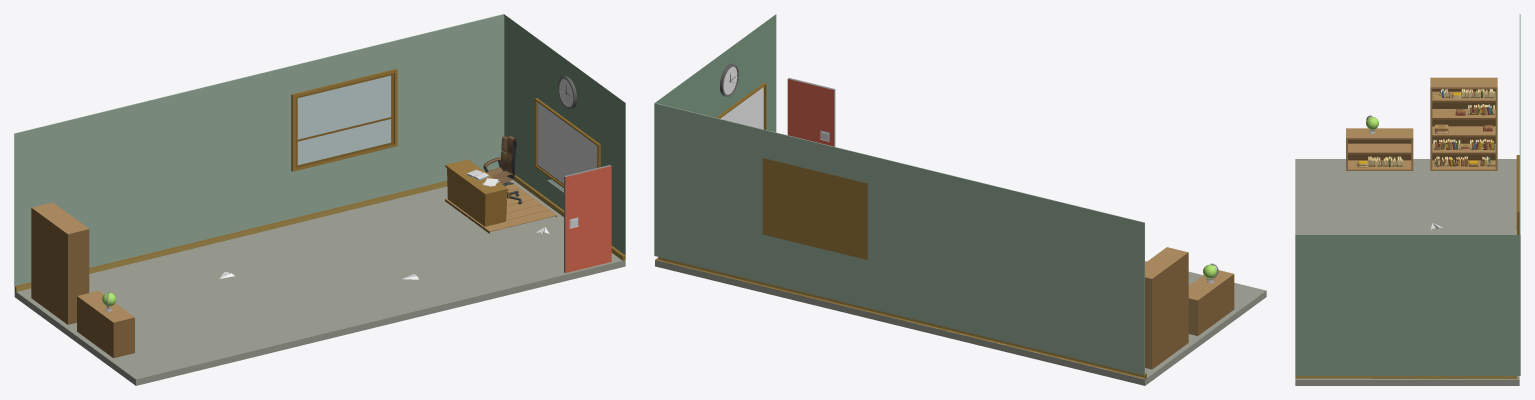
File: classroom3.glb
3 views of the same model, side by side, from view 1: azimuth 30°, elevation 25°; view 2: azimuth 150°, elevation 25°; view 3: azimuth 270°, elevation 25° (orthographic). The views are drawn at different scales.
Parts seen in each view (by area): view 1: Base, Fenêtre, Cube.001, Cube.003, Cube, Cube.002, Bueau, Bois, ChairSeat_LP4, clock main; view 2: Base, Fenêtre, Cube.001, Cube.003, Cube.002, Cube, clock main; view 3: Base, Cube.001, Cube.002, book_a.001, Fenêtre.
Boxes of the visible parts, bbox=[...] form: Base: bbox=[14, 14, 625, 385]; Fenêtre: bbox=[291, 69, 397, 171]; Cube.001: bbox=[31, 202, 89, 324]; Cube.003: bbox=[564, 165, 611, 272]; Cube: bbox=[534, 98, 600, 193]; Cube.002: bbox=[77, 291, 134, 358]; Bueau: bbox=[445, 159, 509, 226]; Bois: bbox=[445, 182, 556, 233]; ChairSeat_LP4: bbox=[483, 136, 516, 183]; clock main: bbox=[557, 76, 577, 109]; Base: bbox=[654, 14, 1266, 385]; Fenêtre: bbox=[762, 158, 867, 259]; Cube.001: bbox=[1145, 247, 1188, 369]; Cube.003: bbox=[787, 78, 835, 146]; Cube.002: bbox=[1188, 270, 1234, 335]; Cube: bbox=[716, 82, 766, 129]; clock main: bbox=[720, 63, 739, 96]; Base: bbox=[1295, 14, 1520, 385]; Cube.001: bbox=[1430, 77, 1497, 170]; Cube.002: bbox=[1346, 128, 1413, 170]; book_a.001: bbox=[1357, 89, 1495, 167]; Fenêtre: bbox=[1517, 165, 1519, 234].
Bounding box in the file's own units: 26.44 × 8.42 × 11.4.
